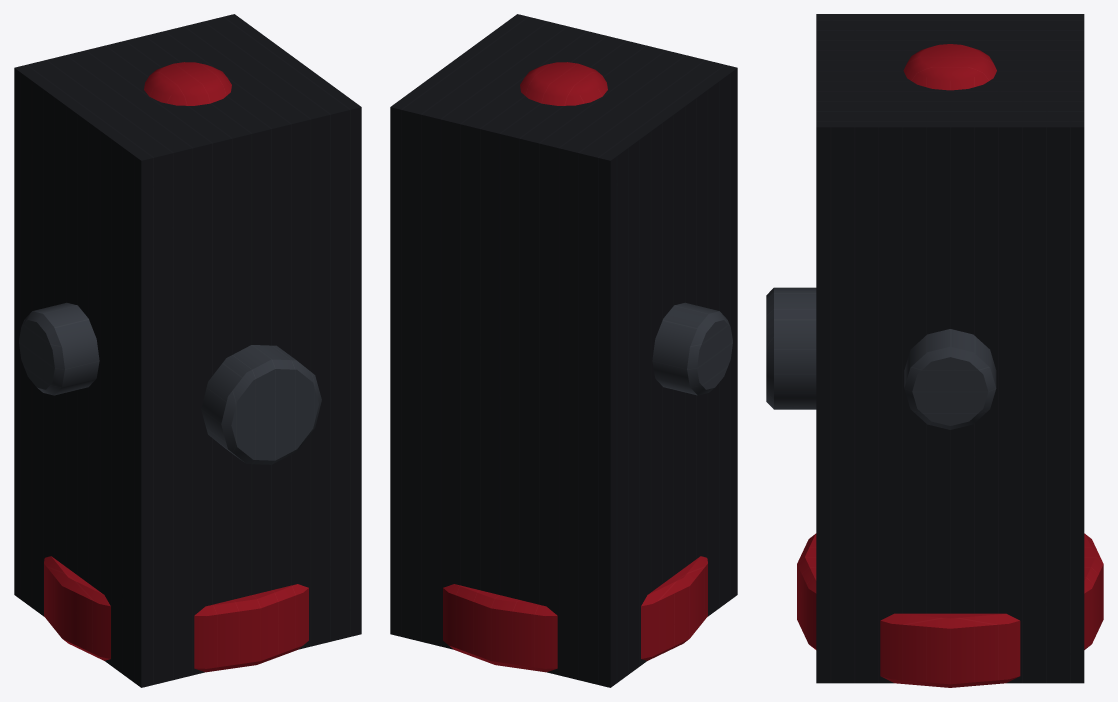
Rendered from kit_hydrant.glb.
3 renders of one model, left to right at view 1: azimuth 30°, elevation 25°; view 2: azimuth 150°, elevation 25°; view 3: azimuth 270°, elevation 25°, orthographic. The views are drawn at different scales.
Parts seen in each view (by area): view 1: hy_COL, hy_base, hy_front, hy_nozzle-1, hy_cap; view 2: hy_COL, hy_base, hy_nozzle-1, hy_cap; view 3: hy_COL, hy_base, hy_nozzle1, hy_front, hy_cap.
Boxes of the visible parts, x1,y1,x2,y2 form: hy_COL: (14,14,361,687); hy_base: (44,556,308,672); hy_front: (201,345,321,464); hy_nozzle-1: (19,302,99,395); hy_cap: (144,62,231,105); hy_COL: (390,14,737,687); hy_base: (443,556,707,672); hy_nozzle-1: (652,302,732,395); hy_cap: (520,62,607,105); hy_COL: (816,14,1084,683); hy_base: (797,533,1103,687); hy_nozzle1: (904,329,996,429); hy_front: (766,287,816,409); hy_cap: (903,44,996,90).
Bounding box in the file's own units: 0.48 × 0.82 × 0.44.
3 materials, 3 textured.
